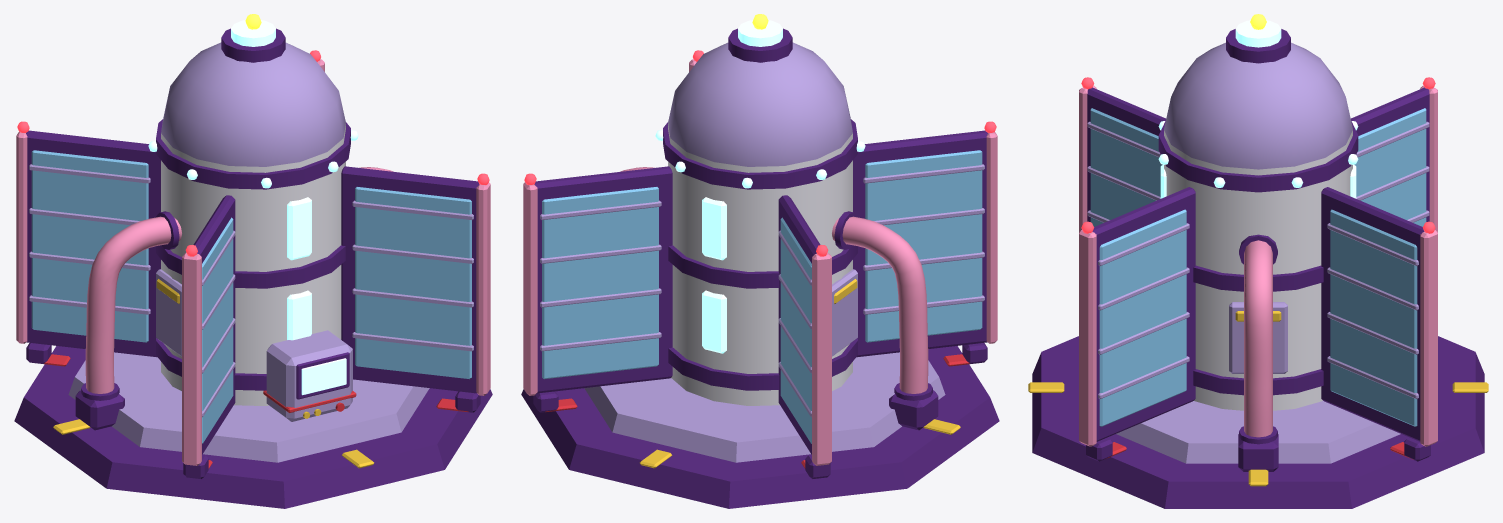
The model's file is Space_Power_Reactor.glb.
3 renders of one model, left to right at view 1: azimuth 30°, elevation 25°; view 2: azimuth 150°, elevation 25°; view 3: azimuth 270°, elevation 25°, orthographic.
Visible parts, largest first — view 1: Space_Power_Reactor; view 2: Space_Power_Reactor; view 3: Space_Power_Reactor.
Boxes of the visible parts, box(x1,y1,x2,y2) form: Space_Power_Reactor: box(14, 14, 492, 508); Space_Power_Reactor: box(521, 14, 999, 508); Space_Power_Reactor: box(1028, 14, 1488, 508).
Bounding box in the file's own units: 7.05 × 6.75 × 7.05.
